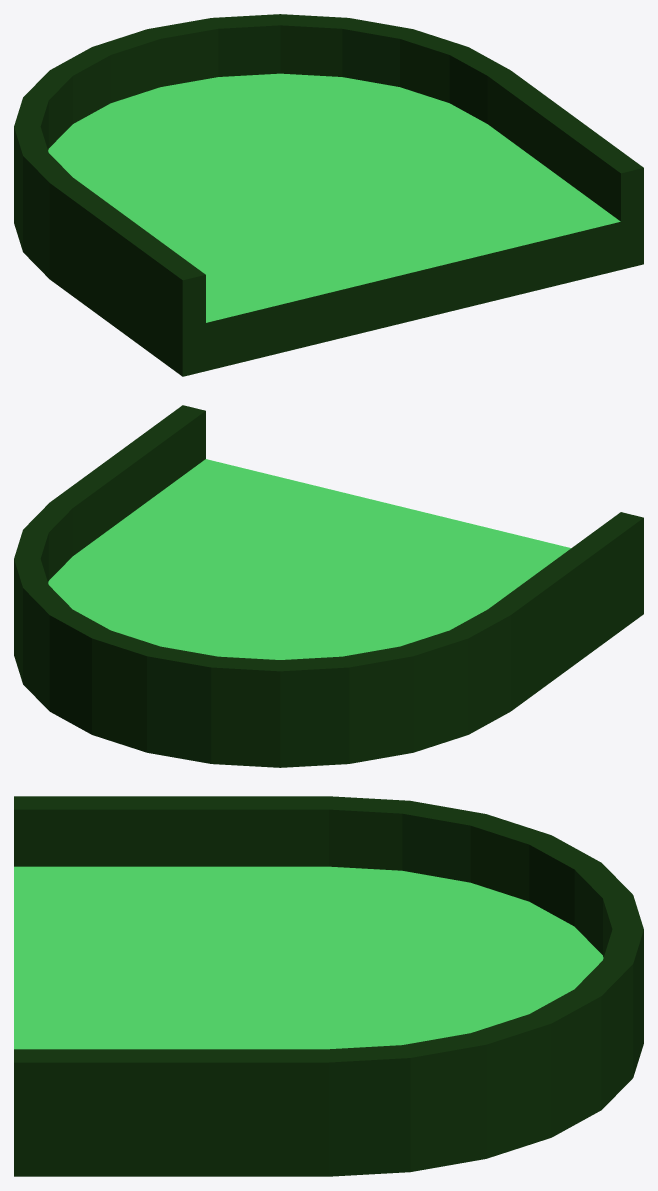
Rendered from MG Rounded End.fbx.
3 renders of one model, top to bottom at view 1: azimuth 30°, elevation 25°; view 2: azimuth 150°, elevation 25°; view 3: azimuth 270°, elevation 25°, orthographic. The views are drawn at different scales.
Parts seen in each view (by area): view 1: MG Rounded End; view 2: MG Rounded End; view 3: MG Rounded End.
Part boxes in pixels (left/top/right/bottom): MG Rounded End: left=14, top=14, right=643, bottom=376; MG Rounded End: left=14, top=405, right=643, bottom=767; MG Rounded End: left=14, top=796, right=643, bottom=1176.
Size of the model in its own units: 200 by 40 by 200.
